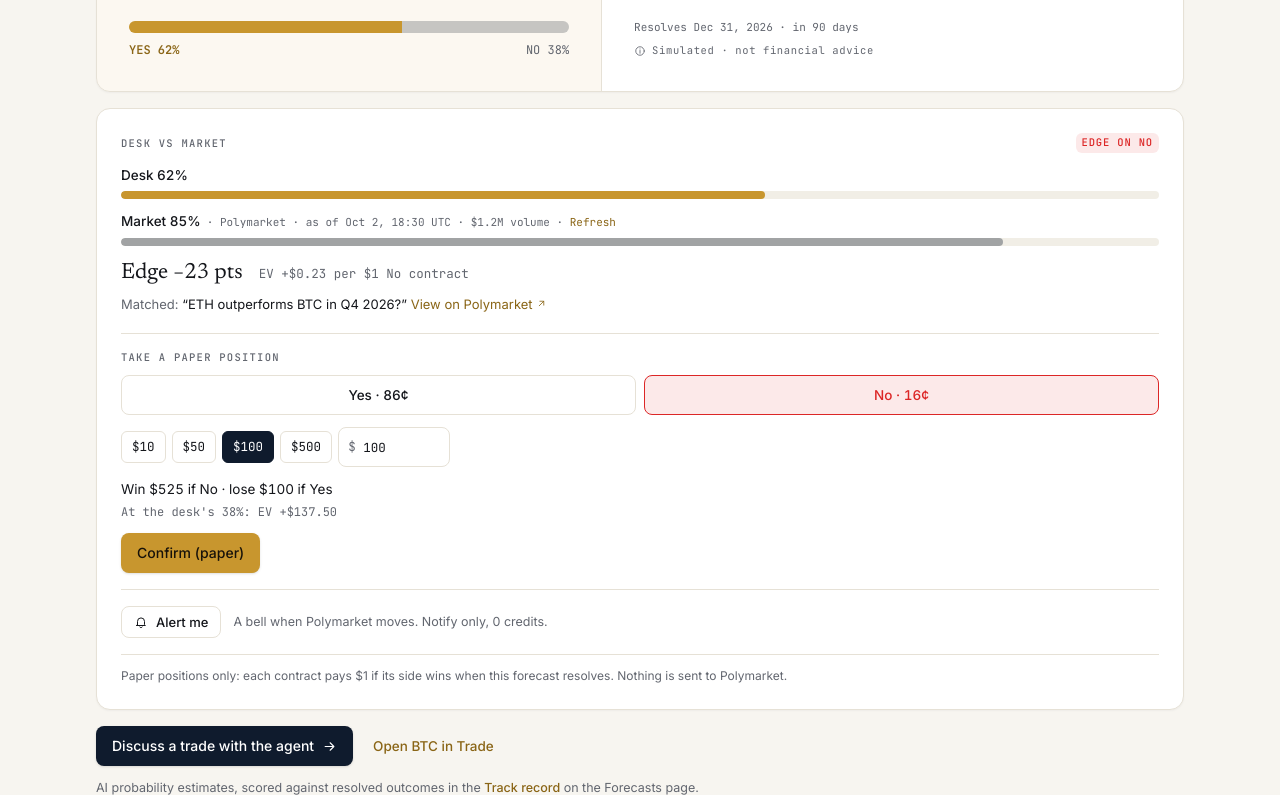
Scenario: DeskVsMarket · Take a paper position › prices both sides with the slippage and previews the win, the loss and the EV for each stake
The width and height of the screenshot is (1280, 795).
(page scrolled)
Expected: the element "Take a paper position" shows "Win $525 if No · lose $100 if Yes", [121,481,333,497]
Expected: the element "Take a paper position" shows "At the desk's 38%: EV +$137.50", [121,333,1159,573]
Click the button "Yes · 86¢": (378, 395) [121,375,636,415]
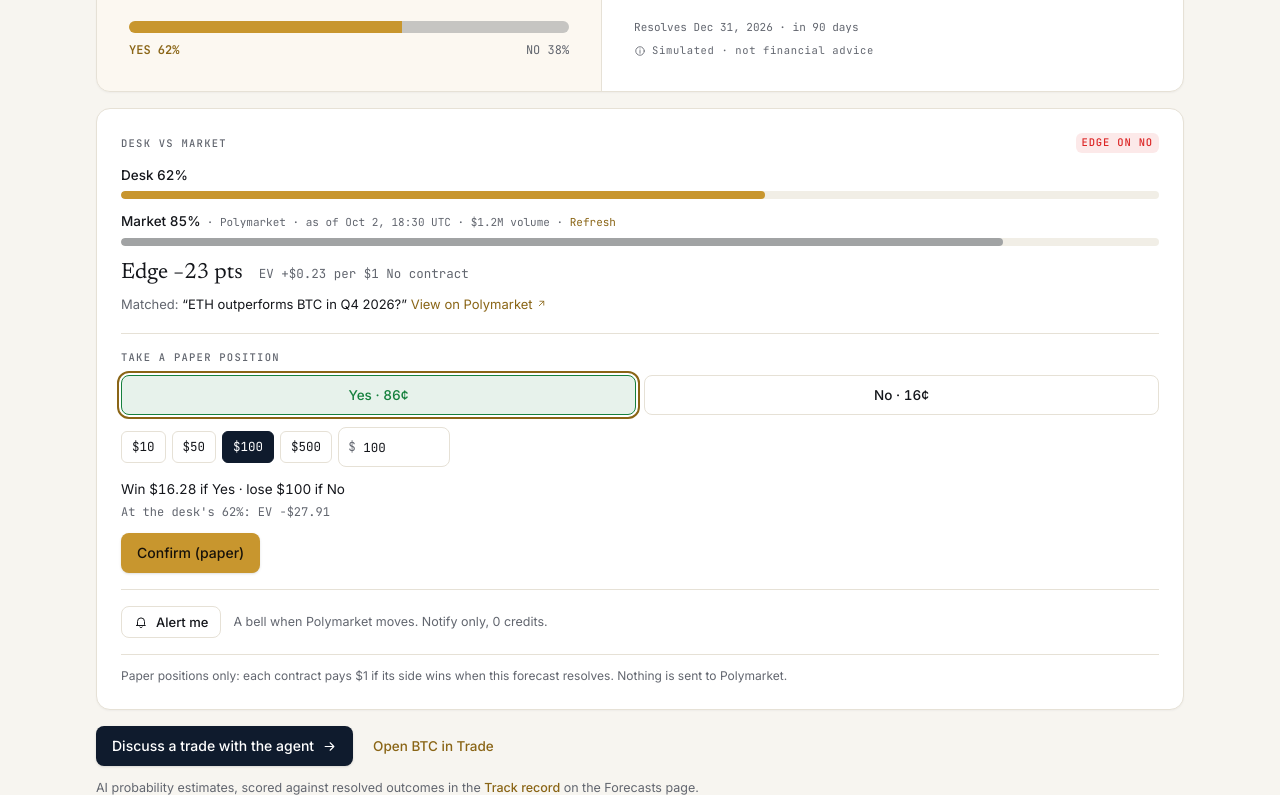
Now the element "Take a paper position" shows "Win $16.28 if Yes · lose $100 if No", box [121,481,345,497]
Now the element "Take a paper position" shows "At the desk's 62%: EV −$27.91", box [121,333,1159,573]
Click the button "$10": (143, 447) [121,431,166,463]
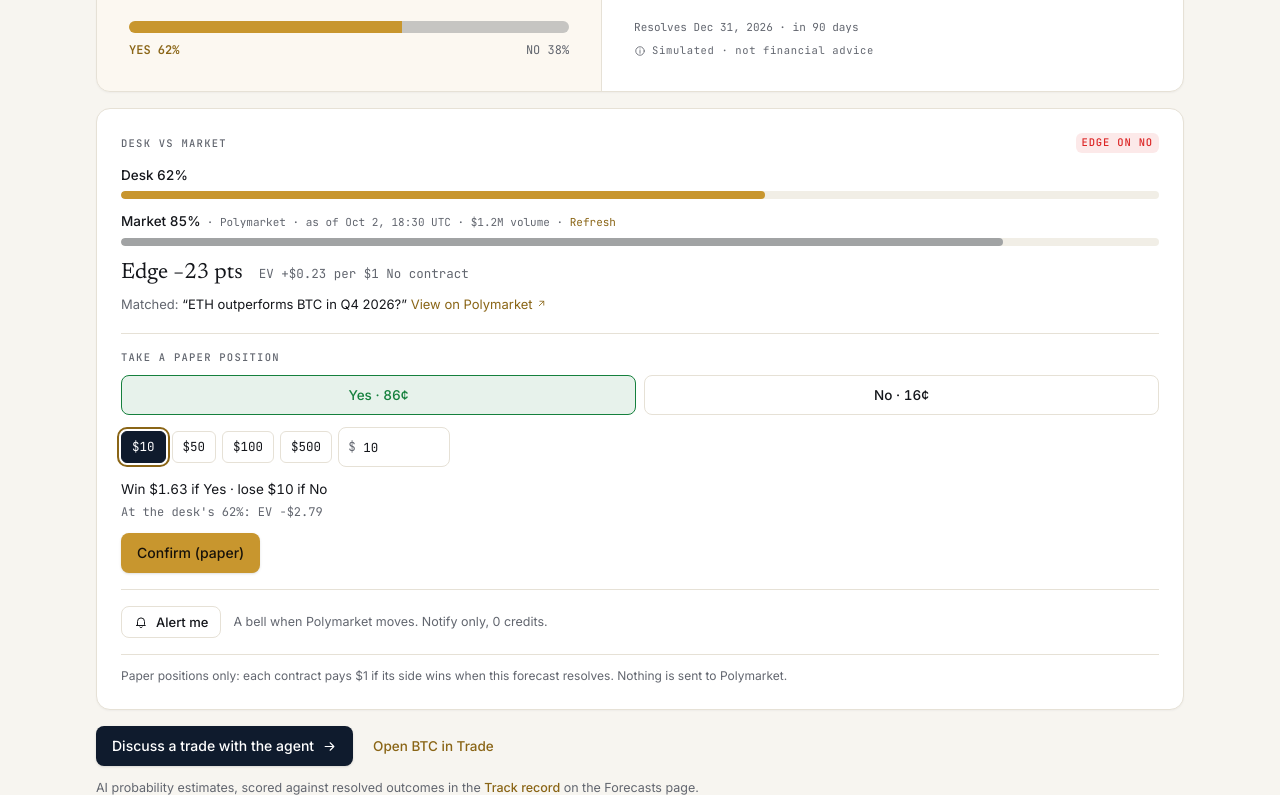
Now the element "Take a paper position" shows "Win $1.63 if Yes · lose $10 if No", box [121,481,328,497]
Click the button "$50": (194, 447) [172,431,216,463]
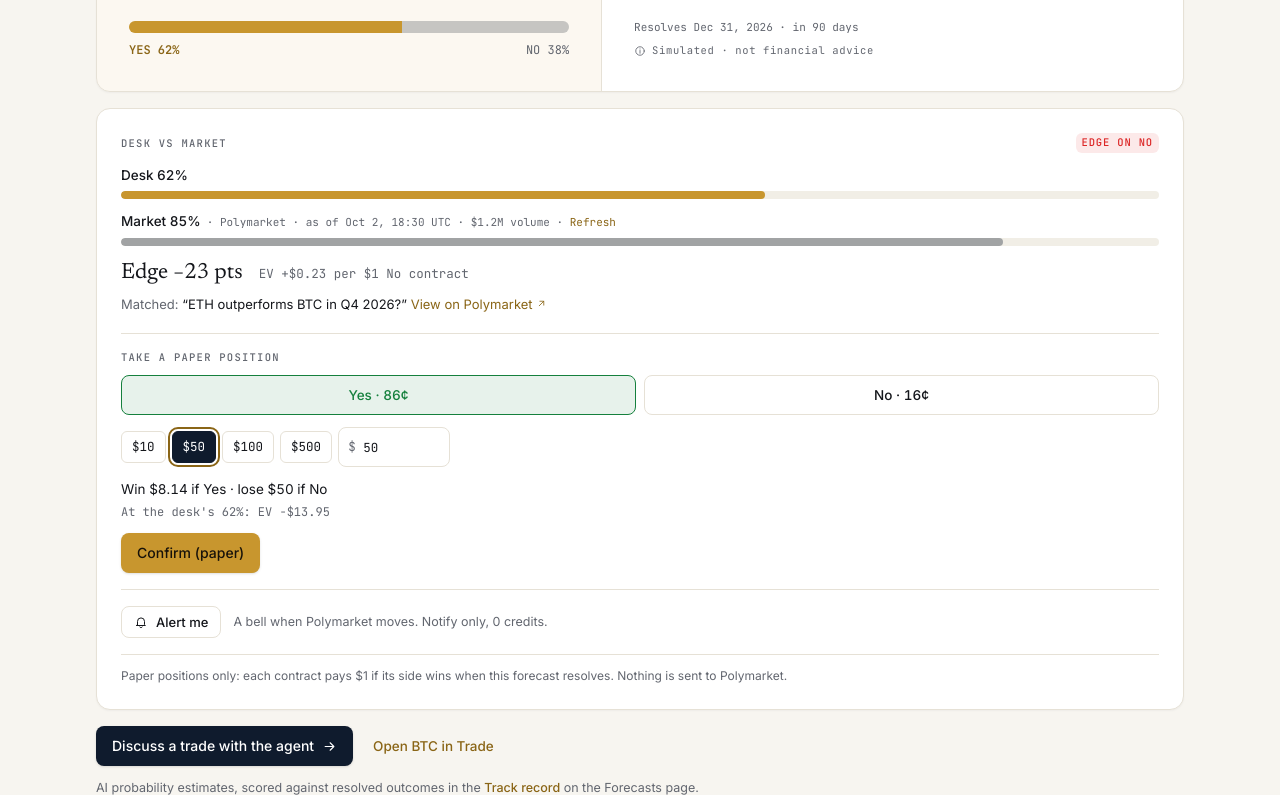
Now the element "Take a paper position" shows "Win $8.14 if Yes · lose $50 if No", box [121,481,328,497]
Click the button "$500": (306, 447) [280,431,332,463]
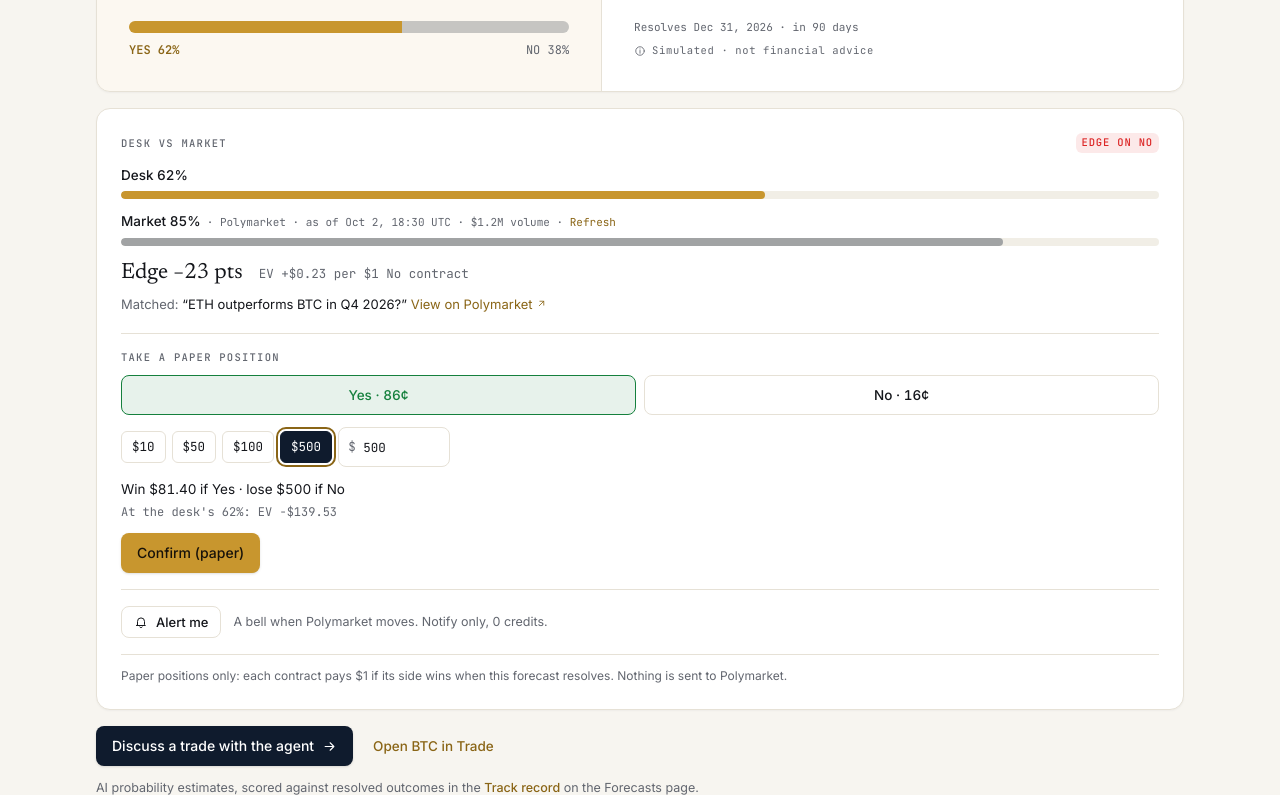
Now the element "Take a paper position" shows "Win $81.40 if Yes · lose $500 if No", box [121,481,345,497]
Replace the text in the number field named "Stake in dollars" with "5": (394, 447) [338,427,450,467]
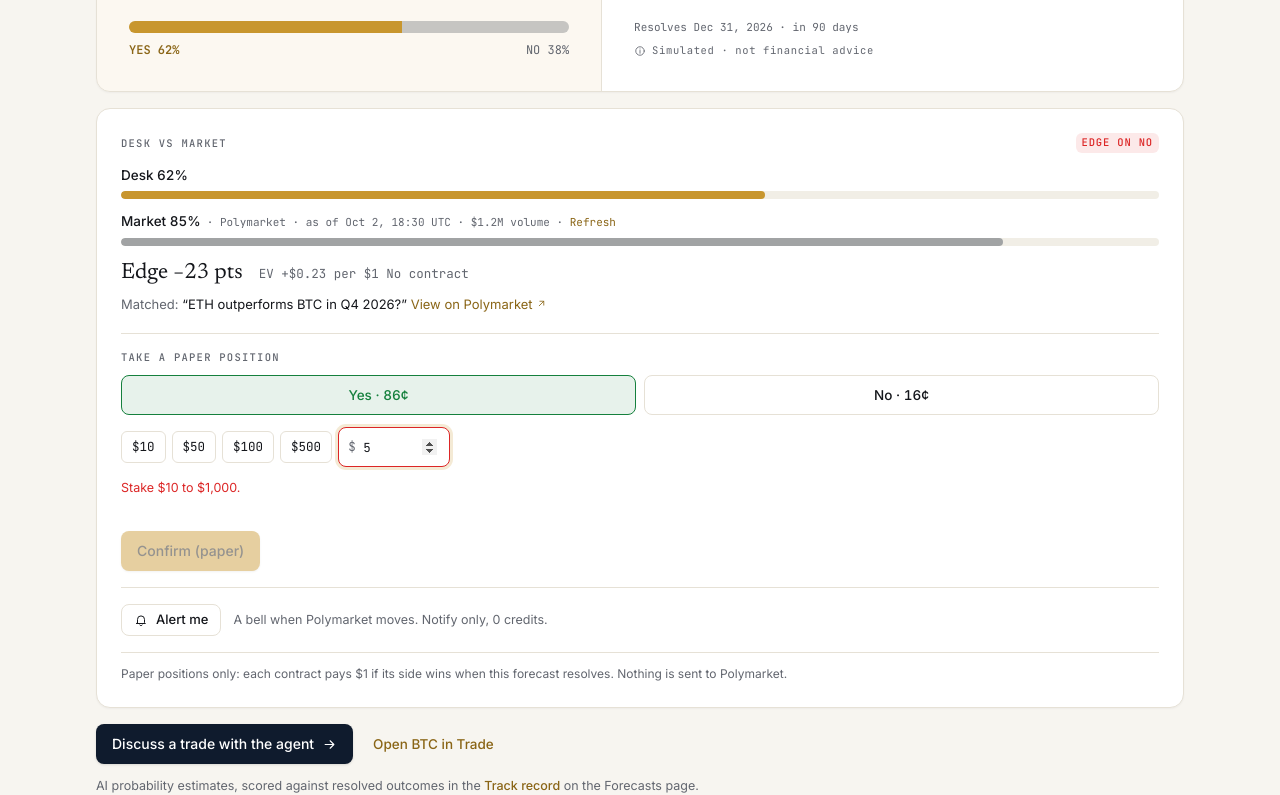
Now the element "Take a paper position" shows "Stake $10 to $1,000.", box [121,480,240,495]
Now the button "Confirm (paper)" is disabled, box [121,531,260,571]
In the number field named "Stake in dollars": (394, 447) [338,427,450,467], type "0"
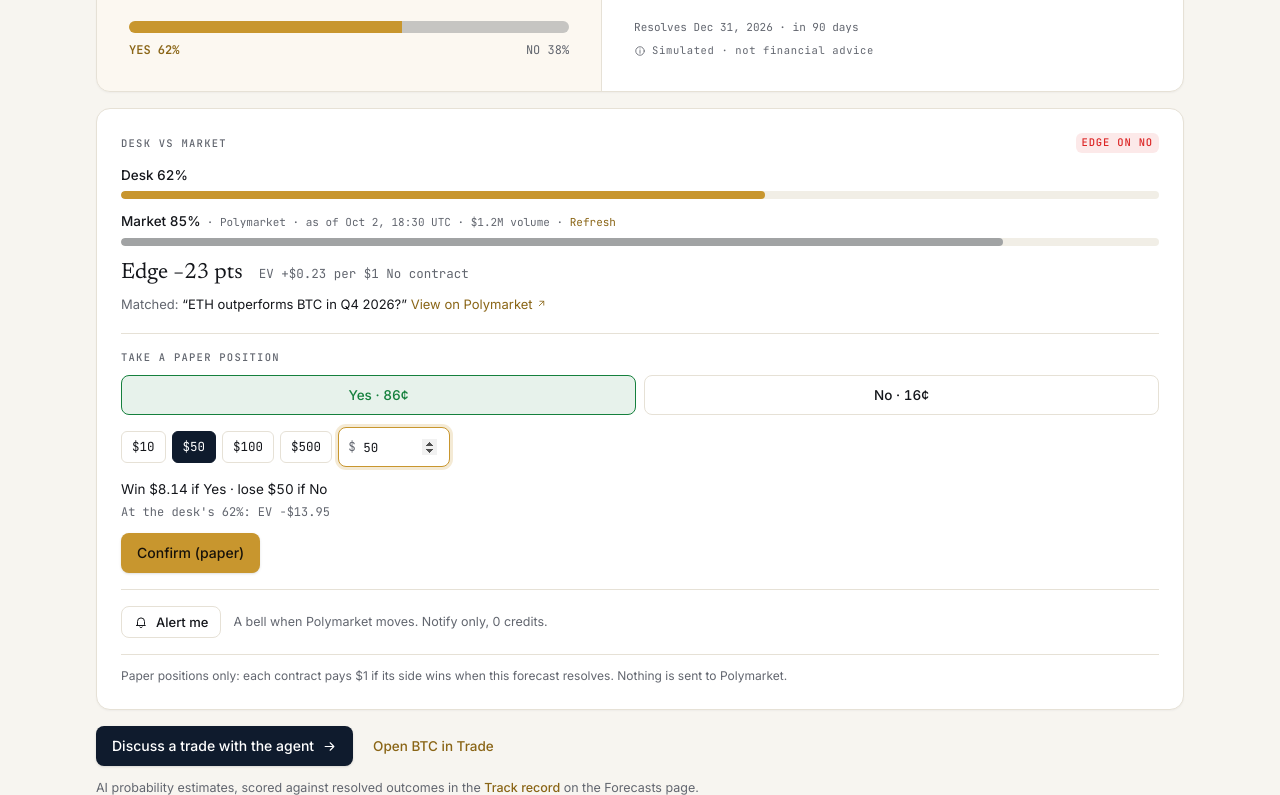
Now the element "Take a paper position" shows "Win $8.14 if Yes · lose $50 if No", box [121,481,328,497]
Now the button "Confirm (paper)" is enabled, box [121,533,260,573]
